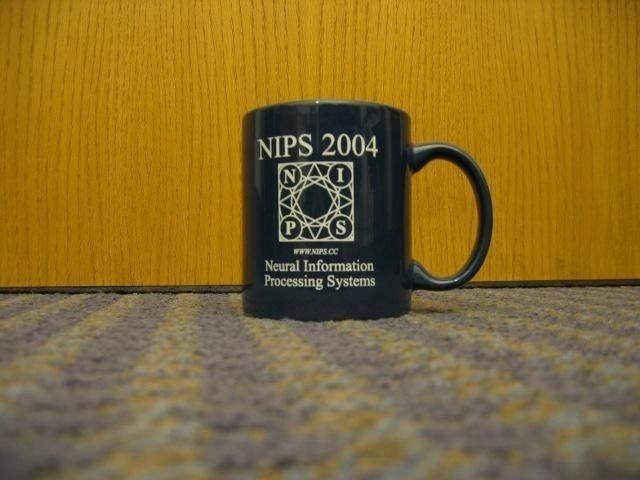cup-handle: (237, 100, 495, 323)
